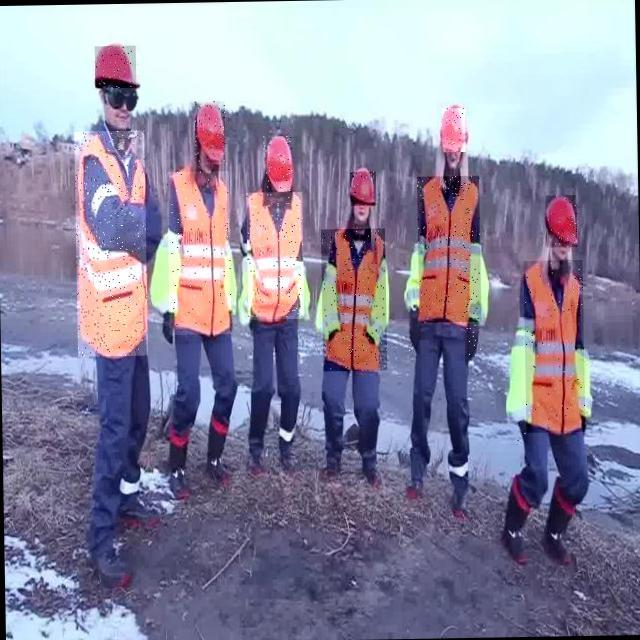Helmet: (194, 101, 225, 164), (95, 45, 138, 88), (263, 136, 292, 198), (545, 195, 577, 248), (442, 108, 467, 152), (349, 171, 376, 205)
Person: (46, 30, 156, 598), (412, 92, 513, 559), (509, 170, 619, 582), (160, 76, 240, 540), (321, 144, 408, 512), (243, 118, 318, 492)
Safety Boot: (80, 534, 151, 592), (542, 498, 593, 571), (498, 482, 534, 579), (164, 411, 195, 523), (110, 468, 156, 533), (239, 423, 281, 491), (399, 450, 443, 511), (205, 406, 234, 493), (440, 463, 484, 516), (267, 429, 307, 480), (312, 440, 356, 483), (355, 452, 392, 499)
Safety Vest: (74, 130, 148, 356), (523, 260, 585, 433), (167, 171, 232, 335), (417, 175, 482, 322), (321, 228, 387, 371), (246, 192, 304, 321), (148, 226, 183, 320), (507, 329, 538, 428), (367, 264, 390, 354), (403, 245, 429, 316), (320, 265, 343, 343), (578, 344, 601, 419), (465, 254, 489, 325), (222, 241, 238, 321), (294, 261, 314, 321), (242, 254, 260, 319)
bare-arms: (135, 198, 165, 248), (459, 319, 488, 369), (398, 313, 430, 353)
